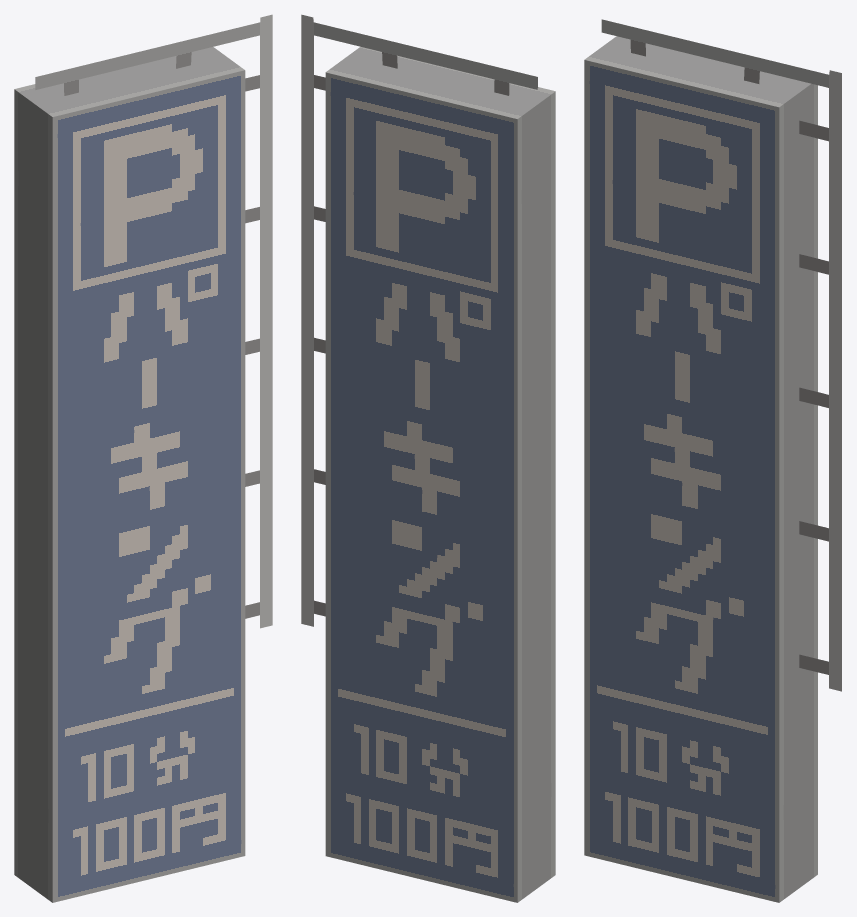
The model's file is 0117_Parking_Lot_Sign.glb.
3 renders of one model, left to right at view 1: azimuth 30°, elevation 25°; view 2: azimuth 150°, elevation 25°; view 3: azimuth 330°, elevation 25°, orthographic.
Parts seen in each view (by area): view 1: part_0; view 2: part_0; view 3: part_0.
Boxes of the visible parts, x1=… form: part_0: x1=14, y1=14, x2=272, y2=902; part_0: x1=301, y1=14, x2=555, y2=902; part_0: x1=584, y1=19, x2=841, y2=902.
Bounding box in the file's own units: 3.17 × 10.44 × 0.8861.
1 material, 1 textured.
